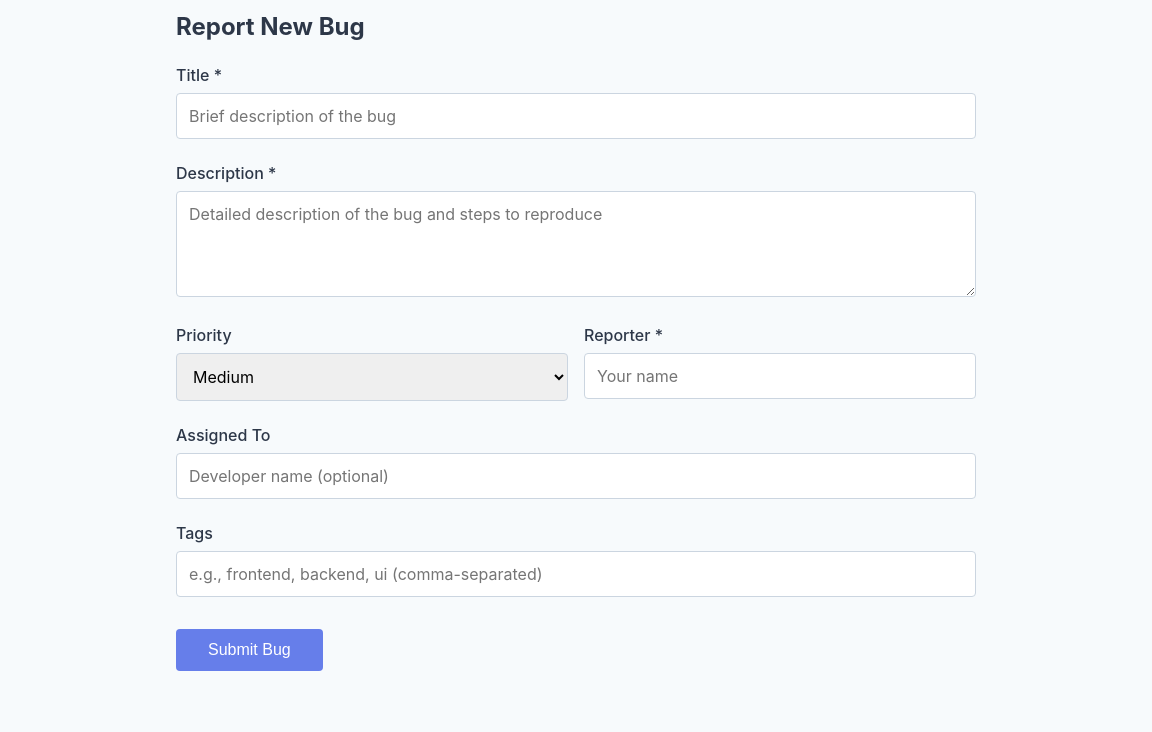
Test: BugForm Component › shows validation error when title is too short
Type "AB" into the field labelled "Title *" at [576, 116], box [176,93,976,139]
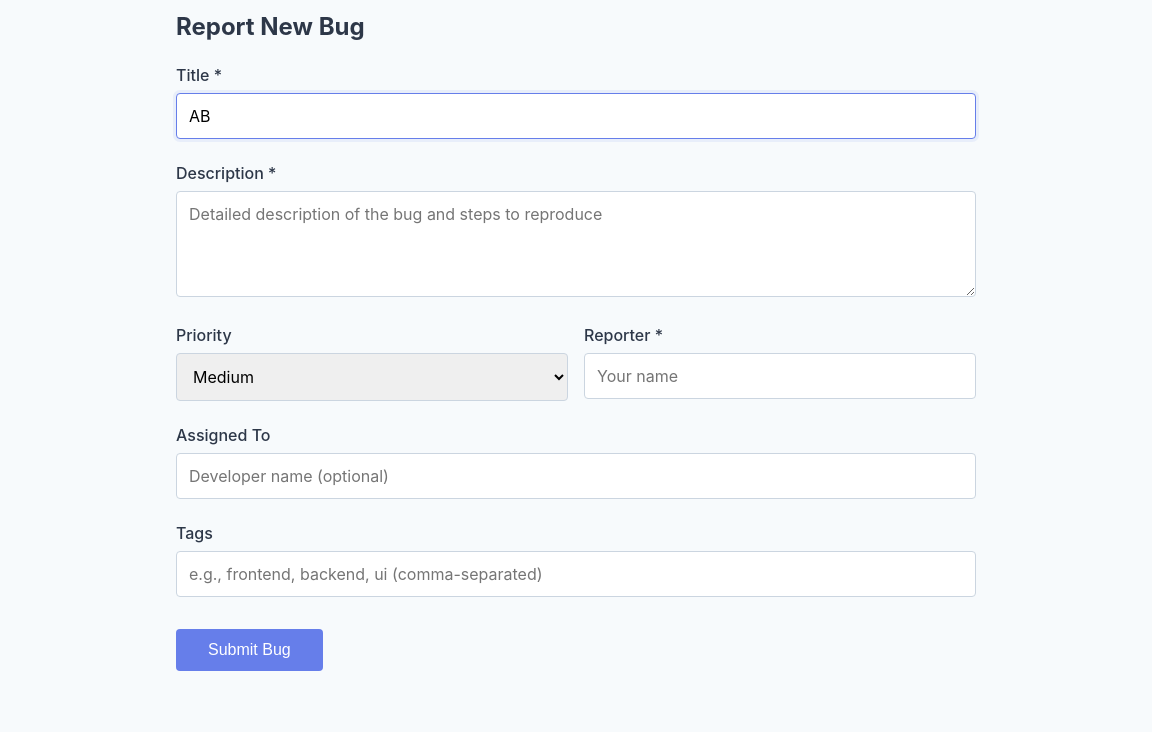
Click the button "Submit Bug" at [249, 650], box [176,629,323,671]
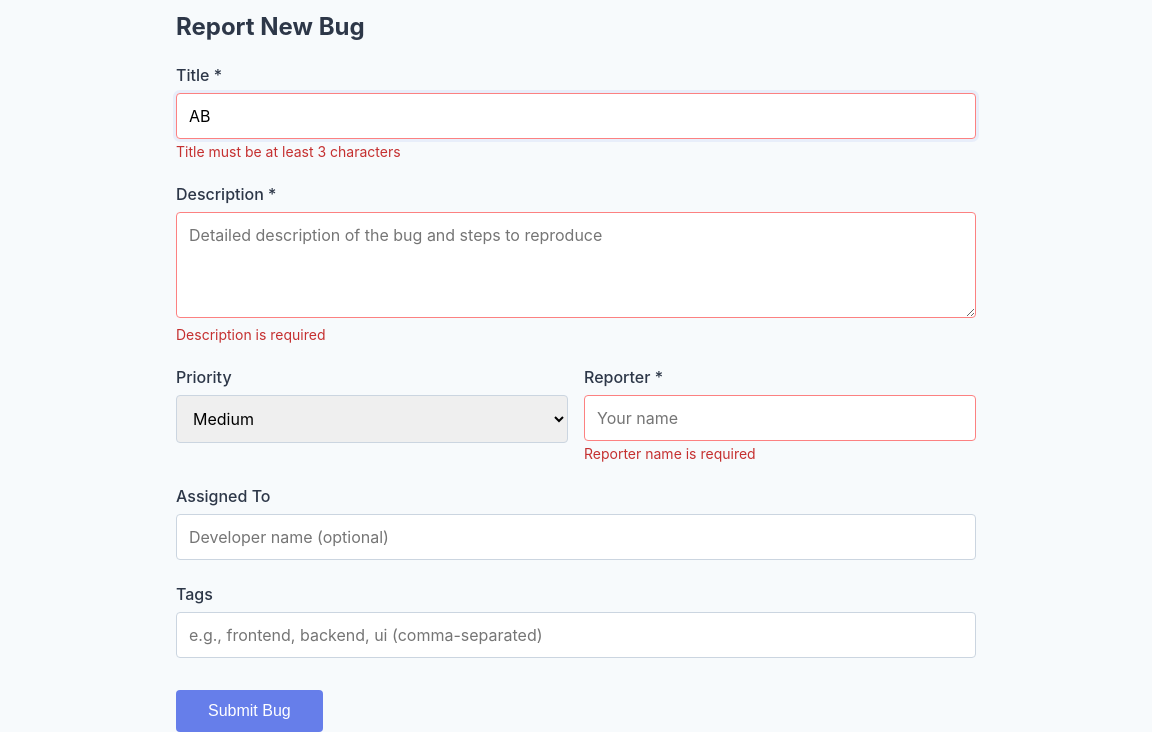
Expected: the text "Title must be at least 3 characters" is shown, [176,143,401,160]
